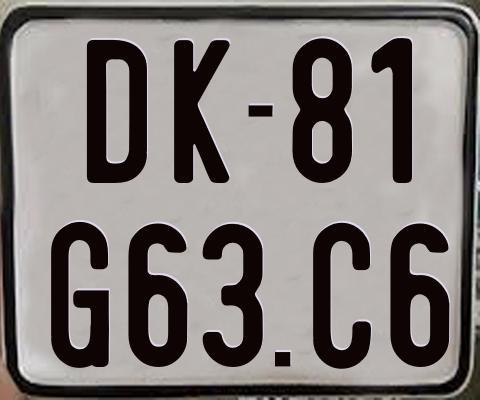1: (371, 36, 413, 181)
3: (201, 224, 264, 368)
6: (390, 221, 454, 368), (126, 220, 188, 364)
8: (291, 36, 355, 183)
C: (312, 221, 375, 372)
D: (85, 38, 146, 181)
G: (50, 220, 108, 366)
K: (171, 39, 232, 187)
